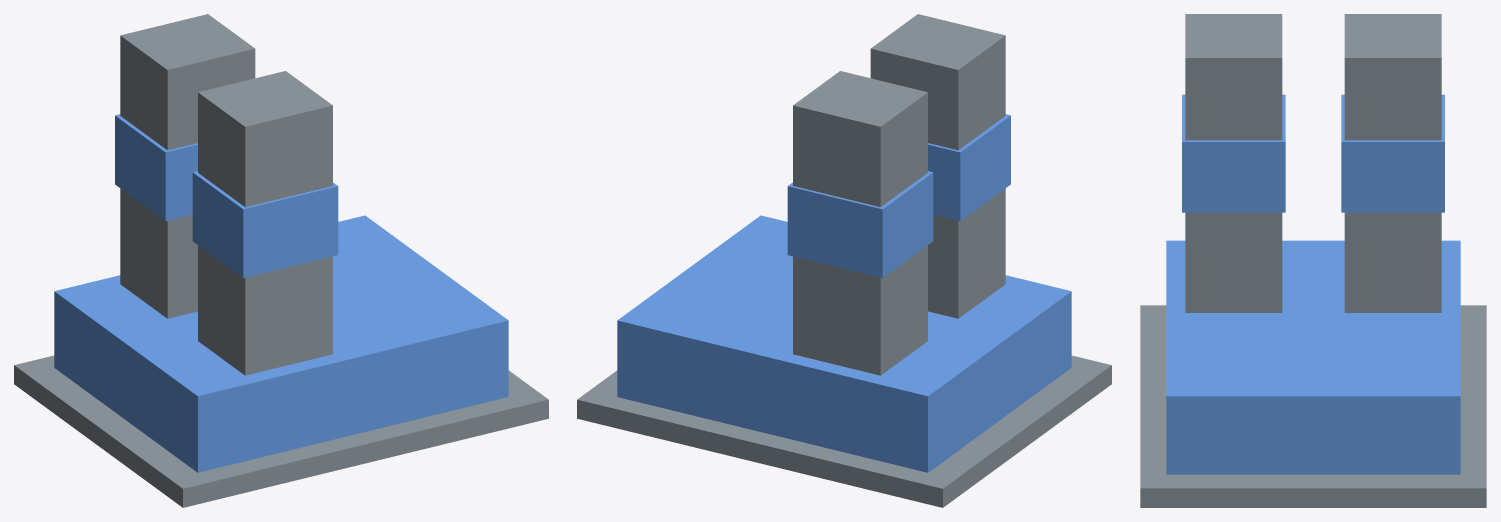
The model's file is energiecentrale.glb.
3 views of the same model, side by side, from view 1: azimuth 30°, elevation 25°; view 2: azimuth 150°, elevation 25°; view 3: azimuth 270°, elevation 25° (orthographic). The views are drawn at different scales.
Parts seen in each view (by area): view 1: hull_team_LOD0, hull_steel_LOD0; view 2: hull_team_LOD0, hull_steel_LOD0; view 3: hull_team_LOD0, hull_steel_LOD0.
Part boxes in pixels (bbox=[...]): hull_team_LOD0: bbox=[54, 114, 508, 472]; hull_steel_LOD0: bbox=[14, 14, 548, 507]; hull_team_LOD0: bbox=[617, 114, 1071, 472]; hull_steel_LOD0: bbox=[577, 14, 1111, 507]; hull_team_LOD0: bbox=[1166, 94, 1460, 474]; hull_steel_LOD0: bbox=[1140, 14, 1486, 507].
Size of what is drawn, in the model's own units: 10 by 9 by 8.
